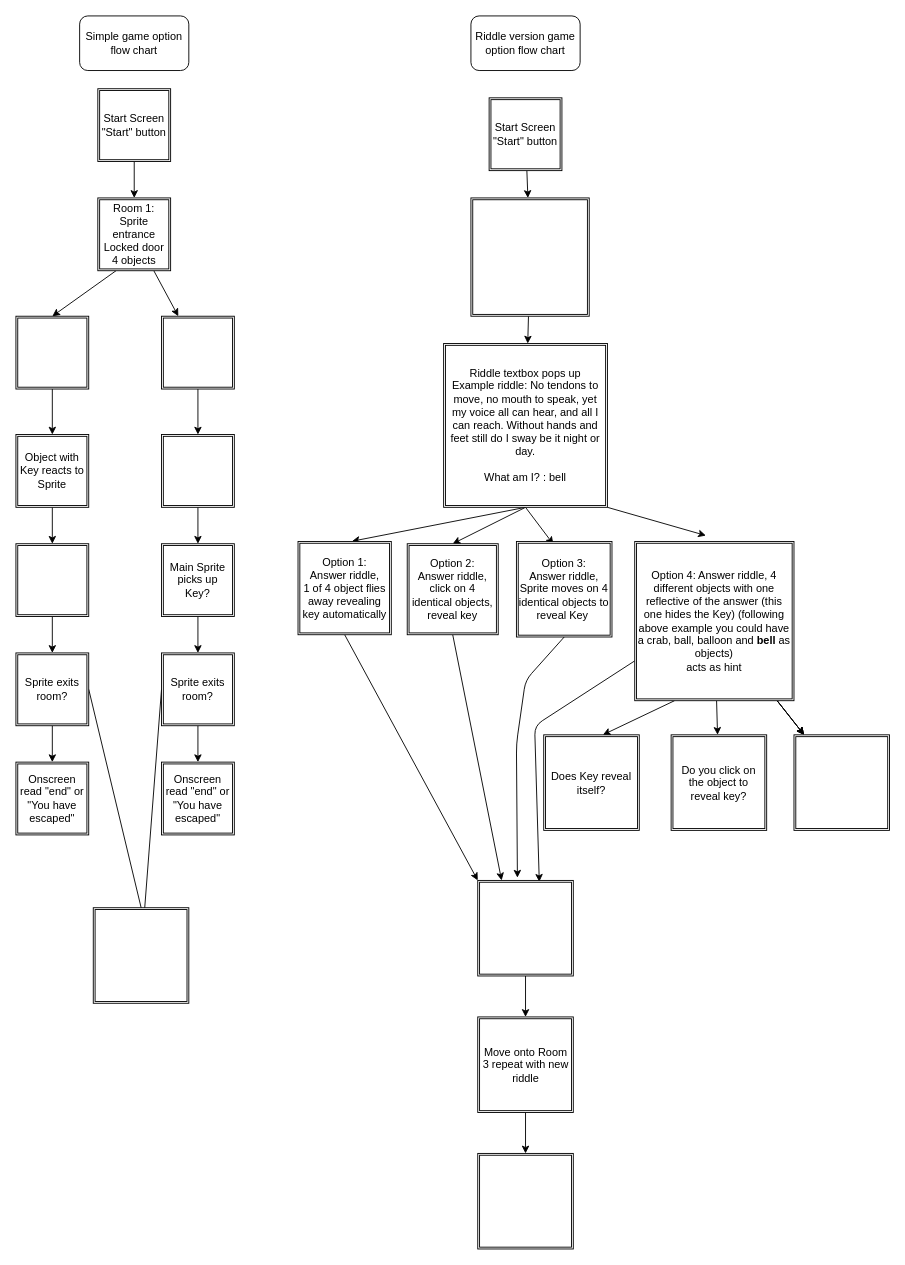
This 905x1265 diagram has some shape labels left out. Here are the shapes that lost their labels. From the top down, the centre of each, then its label:
(x=529, y=256): 3 rooms: Sprite entrance Locked door 4 different objects
(x=52, y=352): Using arrow keys Sprite interacts with objects
(x=197, y=352): Key behind 1 object Click objects to find key
(x=197, y=470): Object moves away from key. Object flies of screen
(x=52, y=580): Key revealed Sprite interaction
(x=841, y=782): Does Sprite walk up to correct object with key revealing itself?
(x=525, y=928): Move onto Room 2 repeat with new riddle
(x=140, y=955): Could continue further with more rooms and objects.
(x=525, y=1201): Collected three keys can now escape: "END" "SUCCESS"
